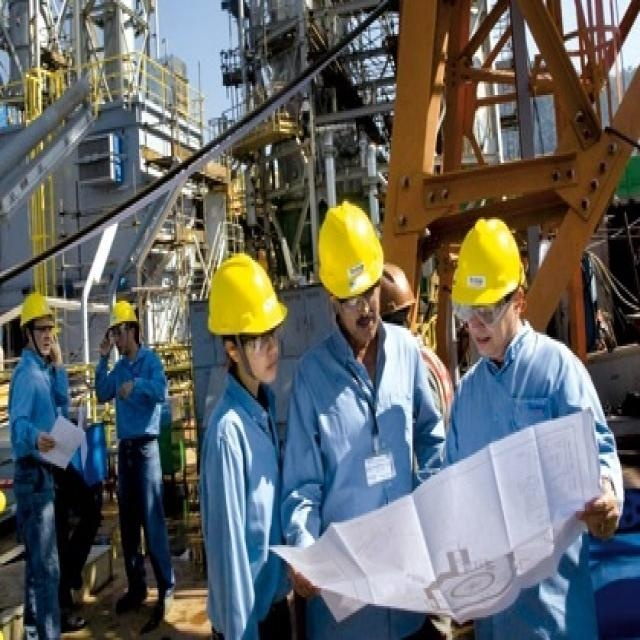Con_Casco: (207, 253, 288, 388), (318, 198, 384, 341)
